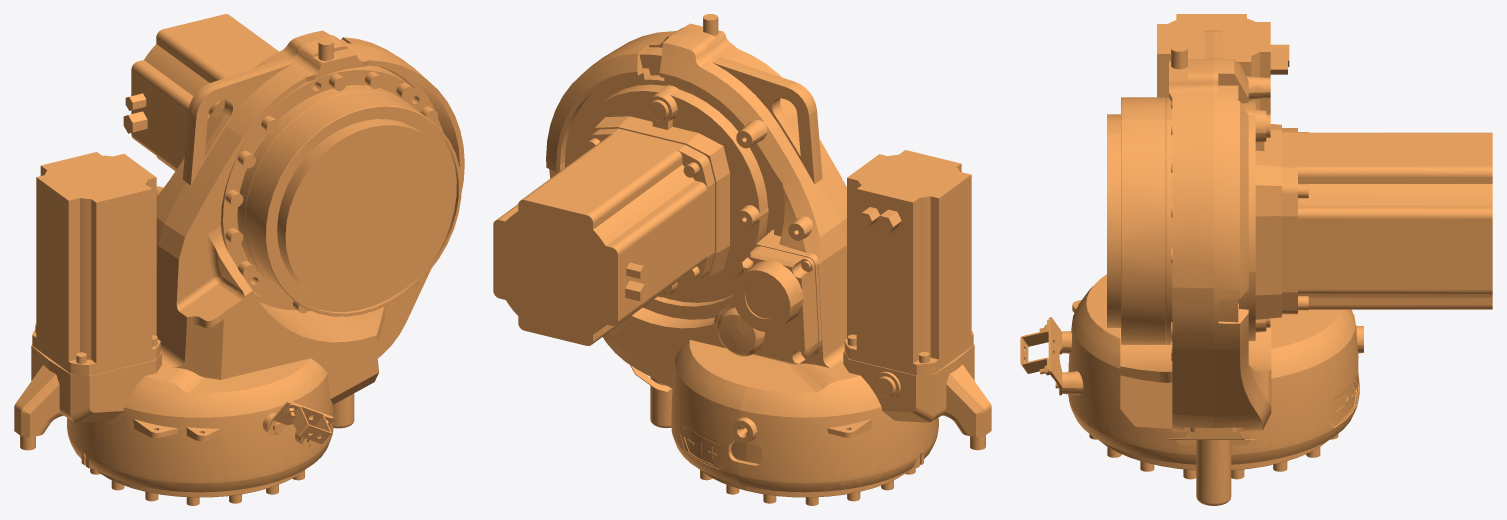
3 views of the same model, side by side, from view 1: azimuth 30°, elevation 25°; view 2: azimuth 150°, elevation 25°; view 3: azimuth 270°, elevation 25° (orthographic). The views are drawn at different scales.
Visible parts, largest first — view 1: mesh_0; view 2: mesh_0; view 3: mesh_0.
Part boxes in pixels (x1=…): mesh_0: x1=14, y1=14, x2=464, y2=505; mesh_0: x1=493, y1=14, x2=991, y2=505; mesh_0: x1=1020, y1=14, x2=1492, y2=505.
Size of the model in its own units: 0.6215 by 0.5525 by 0.5412.
